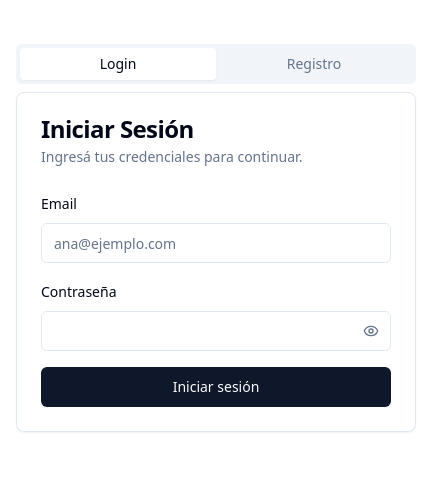
Test: AuthPage [Componente] › Modo Login › Caso 8: debería mostrar error local si el email está vacío al hacer submit
The width and height of the screenshot is (433, 477).
Click the button "Iniciar sesión" at (216, 387), box [41,367,391,407]
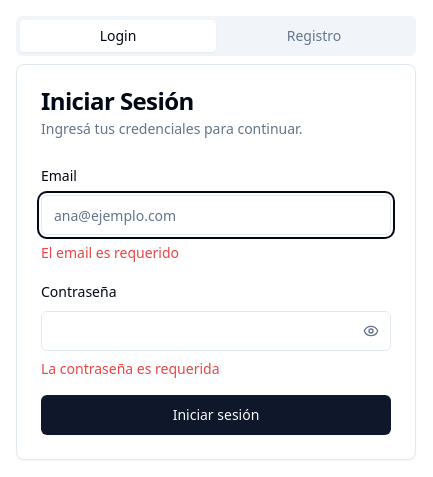
Result: the text "El email es requerido" is shown at [41,243,179,262]
